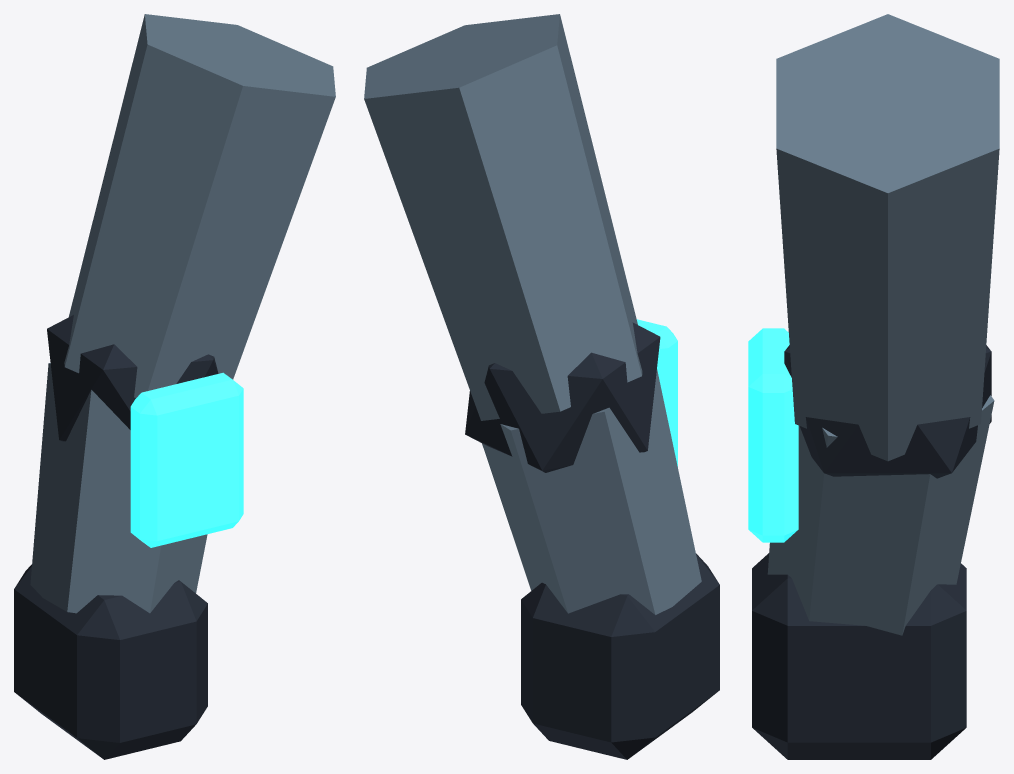
Rendered from SM_NPC_ArmR_003_Robot.glb.
3 renders of one model, left to right at view 1: azimuth 30°, elevation 25°; view 2: azimuth 150°, elevation 25°; view 3: azimuth 270°, elevation 25°, orthographic. The views are drawn at different scales.
Parts seen in each view (by area): view 1: SM_NPC_ArmR_003_Robot; view 2: SM_NPC_ArmR_003_Robot; view 3: SM_NPC_ArmR_003_Robot.
Part boxes in pixels (x1,y1,x2,y2): SM_NPC_ArmR_003_Robot: (14, 14, 335, 759); SM_NPC_ArmR_003_Robot: (364, 14, 719, 759); SM_NPC_ArmR_003_Robot: (748, 14, 999, 759).
Bounding box in the file's own units: 0.275 × 0.5794 × 0.1754.
